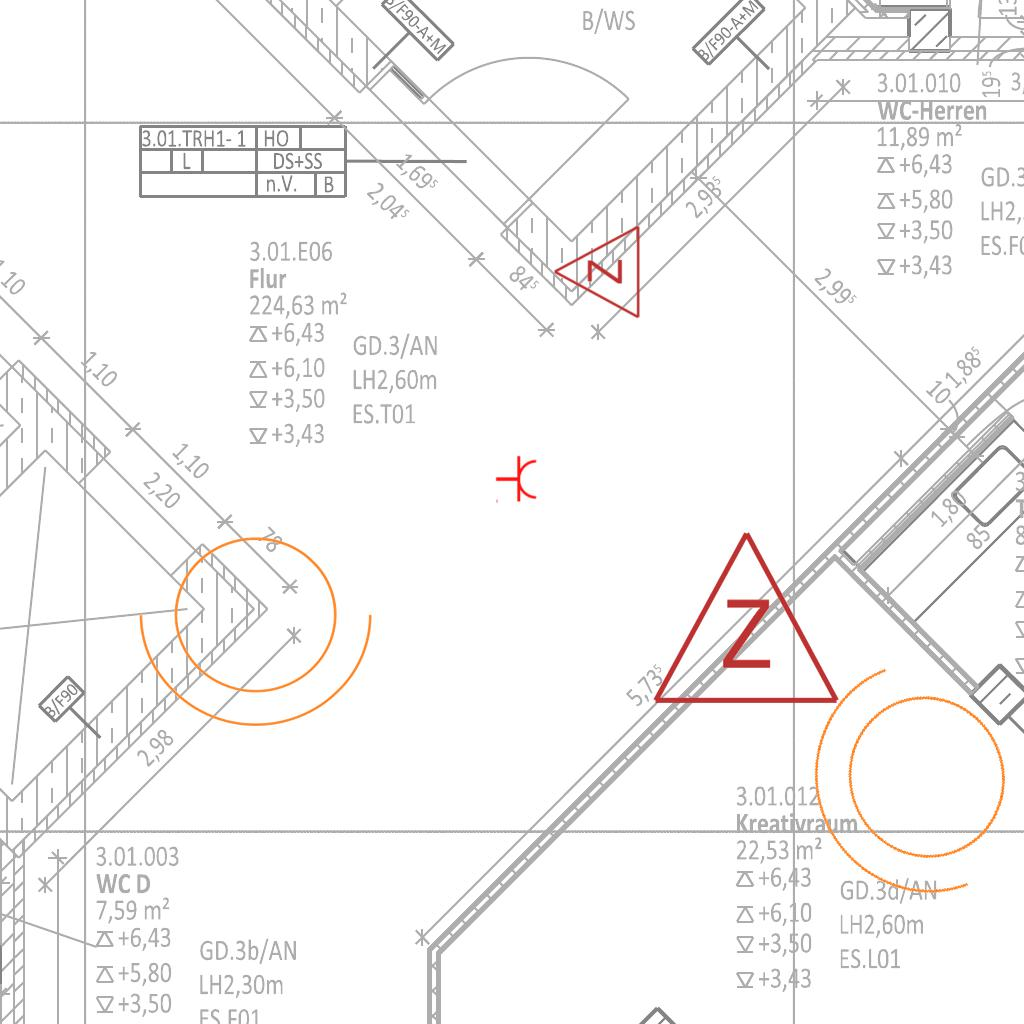Scheinwerfer_fuer_Alarmbeleuchtung: (767, 622, 1024, 951), (130, 512, 394, 737)
Schukosteckdose_einfach: (495, 455, 538, 505)
Zimmersignalleuchte: (646, 518, 842, 718), (547, 224, 647, 322)
